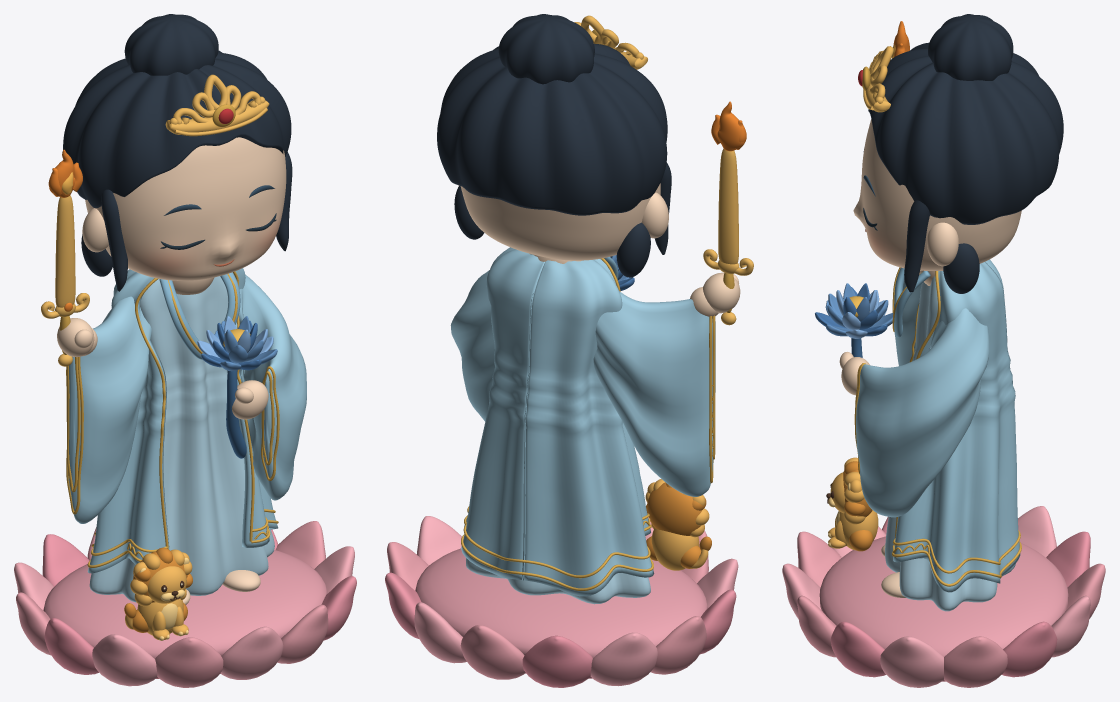
Rendered from chibi-van-thu.glb.
3 views of the same model, side by side, from view 1: azimuth 30°, elevation 25°; view 2: azimuth 150°, elevation 25°; view 3: azimuth 270°, elevation 25° (orthographic). The views are drawn at different scales.
Parts seen in each view (by area): view 1: Manjushri | Chibi figurine; view 2: Manjushri | Chibi figurine; view 3: Manjushri | Chibi figurine.
Part boxes in pixels (left/top/right/bottom): Manjushri | Chibi figurine: left=14, top=14, right=356, bottom=687; Manjushri | Chibi figurine: left=385, top=14, right=753, bottom=687; Manjushri | Chibi figurine: left=782, top=14, right=1105, bottom=687.
Size of the model in its own units: 2.65 by 4.9 by 2.33.
